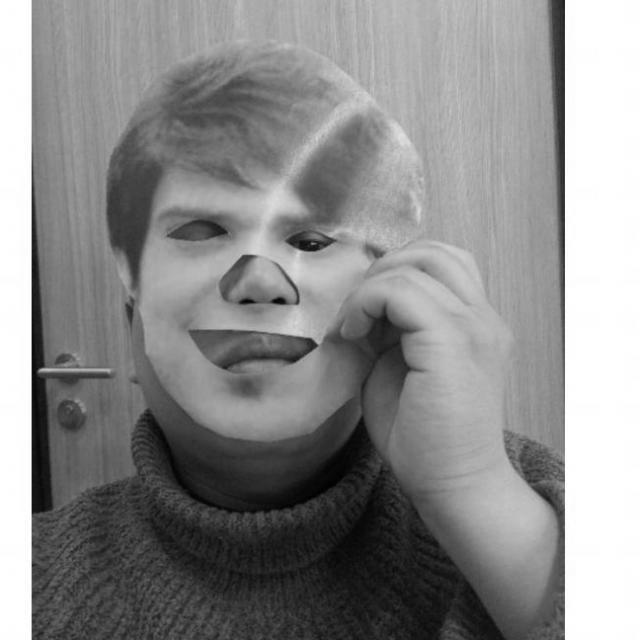fake: (98, 36, 434, 444)
